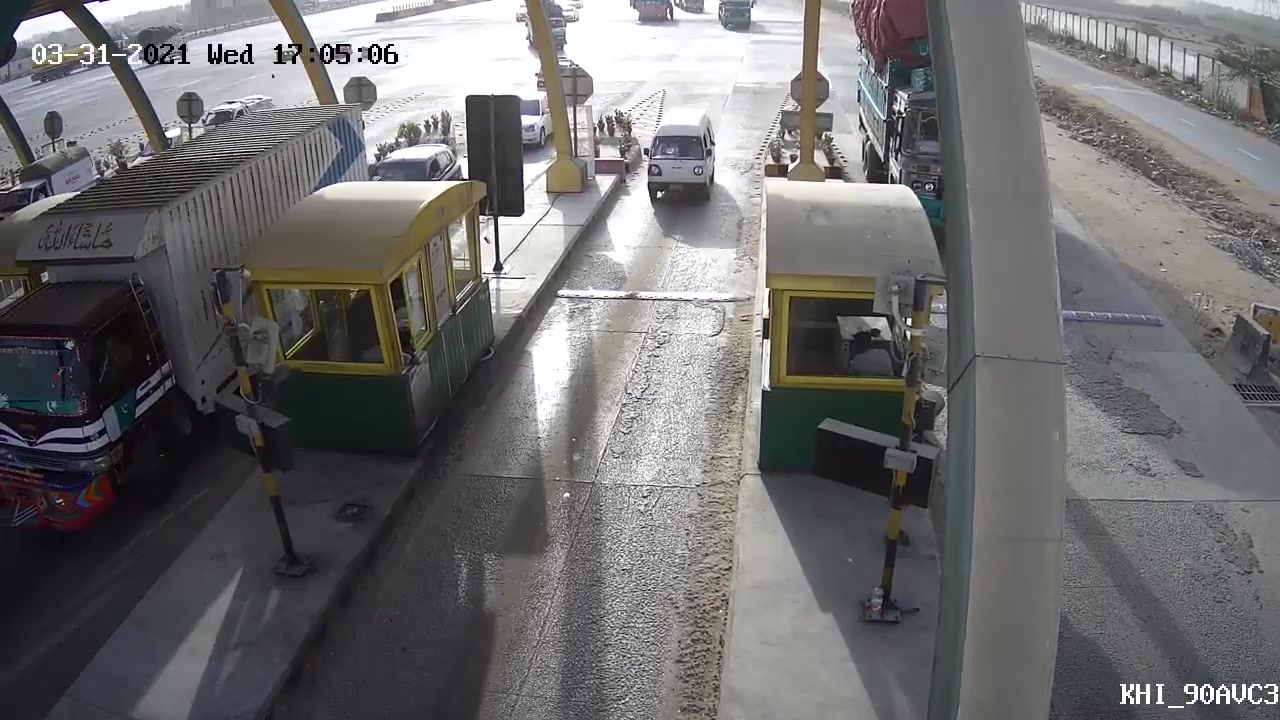F1: (630, 107, 729, 215)
